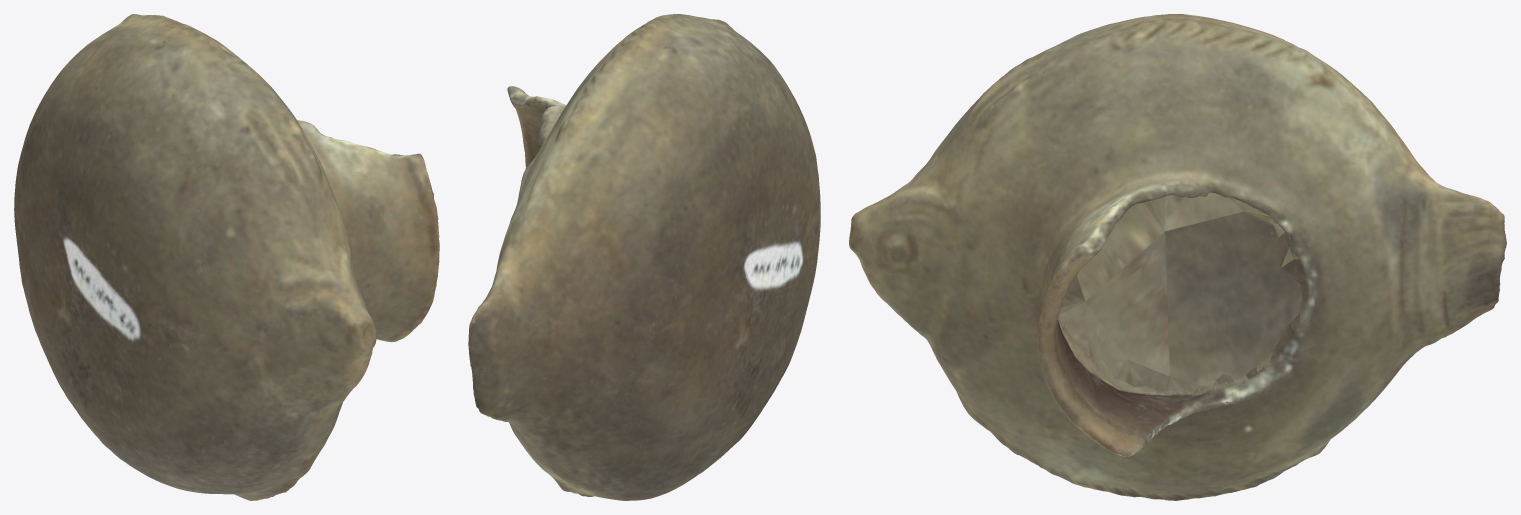
Rendered from Ark_HM_611_HI.glb.
The picture shows the model from 3 angles, left to right: view 1: azimuth 30°, elevation 25°; view 2: azimuth 150°, elevation 25°; view 3: azimuth 270°, elevation 25°; orthographic projection. The views are drawn at different scales.
Size of the model in its own units: 0.2728 by 0.3955 by 0.4992.
1 material, 1 textured.
